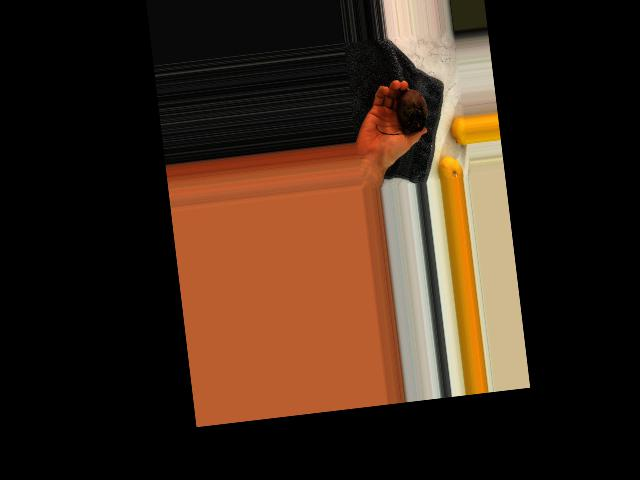beet: (372, 86, 429, 135)
